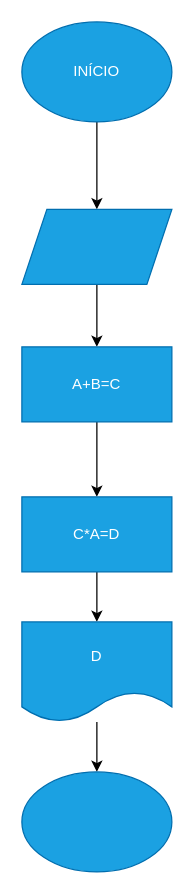
The diagram is 194 pixels wide and 894 high, and some of its shapes have lost their labels. Each missing label, with the box of its shape:
A,B: (21, 208, 172, 284)
FIM: (21, 771, 172, 872)
